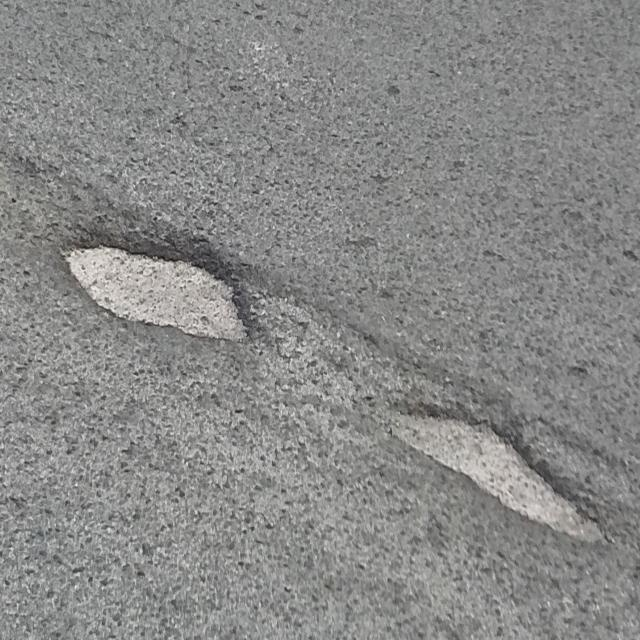pothole: (363, 359, 621, 565), (51, 196, 270, 382)
